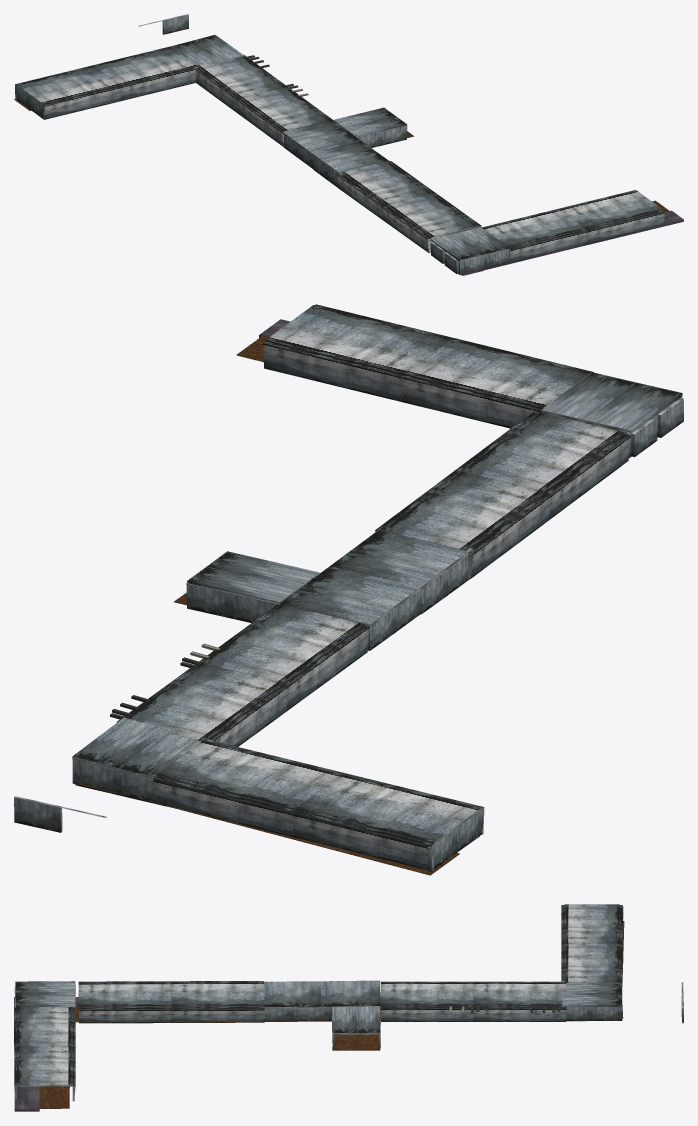
The model's file is PS1Subway .fbx.
3 views of the same model, one above another, from view 1: azimuth 30°, elevation 25°; view 2: azimuth 150°, elevation 25°; view 3: azimuth 270°, elevation 25° (orthographic). The views are drawn at different scales.
Parts seen in each view (by area): view 1: subway tunnel.004, subway tunnel, subway tunnel.001, Cube.043, Cube.048, Cube.049, Cube.051, Cube.057, Cube.047; view 2: subway tunnel.004, subway tunnel, subway tunnel.001, Cube.043, Cube.049, Cube.048, Cube.057, Cube.047, Cube.052; view 3: subway tunnel.004, subway tunnel.001, subway tunnel, Cube.043, Cube.049, Cube.048, Cube.053, Cube.110, Cube.051, Cube.036.
Part boxes in pixels (x1,y1,x2,y2): subway tunnel.004: [337, 161, 664, 275]; subway tunnel: [15, 47, 197, 119]; subway tunnel.001: [195, 55, 332, 146]; Cube.043: [282, 119, 391, 187]; Cube.048: [333, 107, 407, 147]; Cube.049: [165, 34, 244, 68]; Cube.051: [481, 210, 683, 270]; Cube.057: [138, 14, 188, 34]; Cube.047: [15, 85, 43, 118]; subway tunnel.004: [263, 304, 683, 578]; subway tunnel: [153, 740, 484, 870]; subway tunnel.001: [116, 604, 369, 746]; Cube.043: [279, 527, 472, 650]; Cube.049: [72, 717, 213, 806]; Cube.048: [186, 551, 319, 622]; Cube.057: [14, 796, 106, 832]; Cube.047: [428, 809, 482, 872]; Cube.052: [129, 796, 459, 875]; subway tunnel.004: [14, 981, 264, 1101]; subway tunnel.001: [381, 981, 566, 1021]; subway tunnel: [561, 904, 622, 985]; Cube.043: [259, 980, 380, 1020]; Cube.049: [562, 980, 622, 1021]; Cube.048: [332, 1006, 380, 1048]; Cube.053: [332, 1022, 380, 1050]; Cube.110: [39, 1086, 69, 1108]; Cube.051: [14, 1007, 39, 1111]; Cube.036: [75, 1007, 246, 1022].
Size of the model in its own units: 21215 by 921 by 31425.
